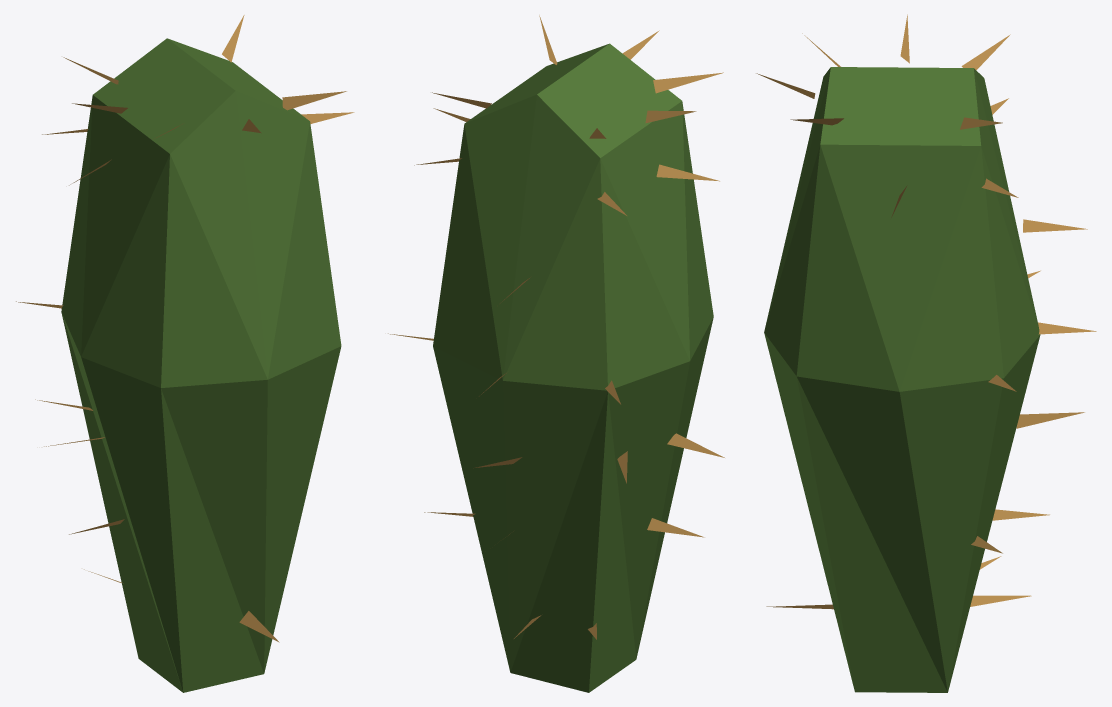
The model's file is deco_desert_2.glb.
3 views of the same model, side by side, from view 1: azimuth 30°, elevation 25°; view 2: azimuth 150°, elevation 25°; view 3: azimuth 270°, elevation 25° (orthographic).
Parts seen in each view (by area): view 1: lod0; view 2: lod0; view 3: lod0.
Boxes of the visible parts, x1,y1,x2,y2 form: lod0: (16,15,354,692); lod0: (388,15,724,692); lod0: (756,14,1096,692).
Bounding box in the file's own units: 0.4602 × 0.8594 × 0.442.
